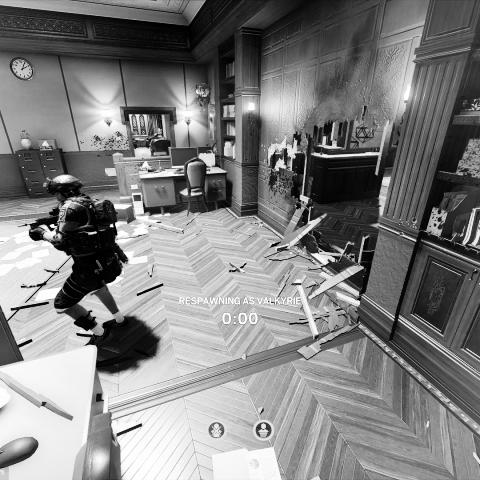Character: (20, 170, 130, 351)
Head: (47, 172, 85, 202)
